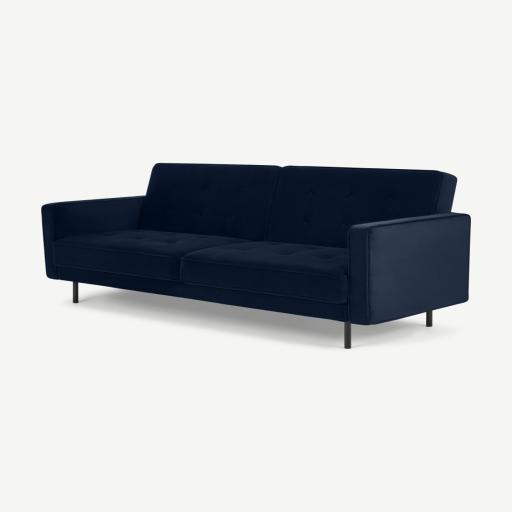back_cushion: (135, 160, 467, 248)
left_arm: (367, 216, 470, 324)
legs: (354, 322, 374, 352), (73, 275, 85, 300), (426, 308, 433, 323)
right_arm: (42, 189, 141, 270)
seat_cushion: (56, 224, 367, 309)
two-seater: (0, 0, 511, 512)
